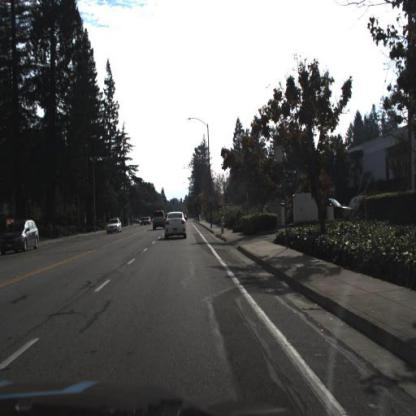car: (2, 220, 41, 255), (167, 210, 189, 238), (153, 210, 167, 231), (108, 220, 122, 236)
